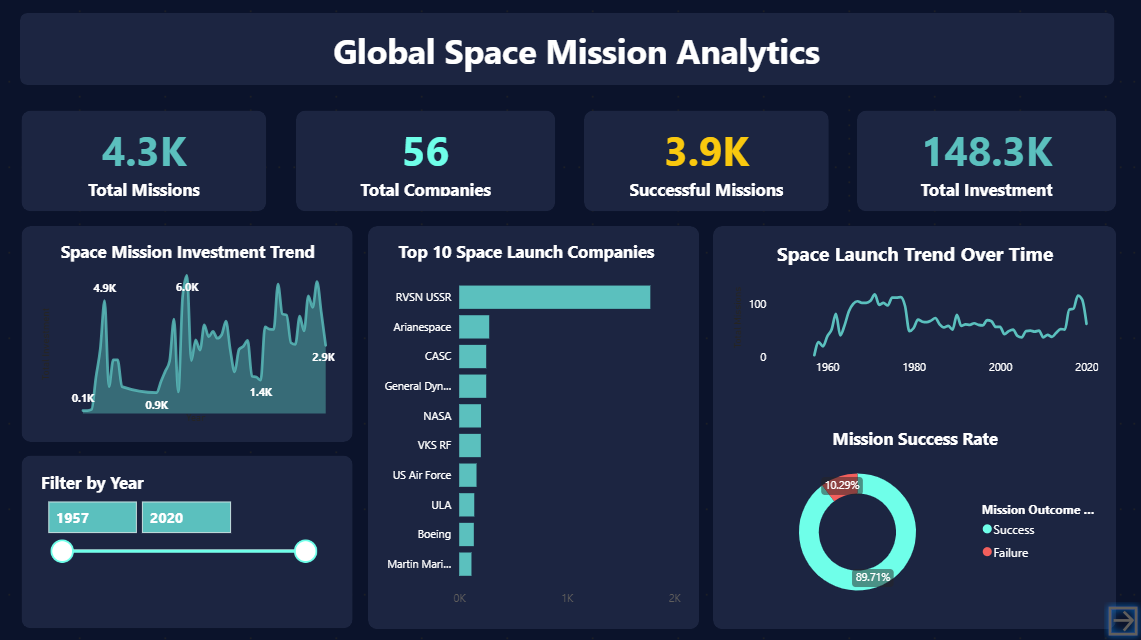

The page's visual inventory and layout, read from the dashboard file:
{"tool":"powerbi","page":{"name":"Executive Overview","canvas":[1280,720],"ordinal":0},"visuals":[{"type":"shape","box":[32,256,368,240],"z":0},{"type":"shape","box":[30,20,1216,80],"z":1000},{"type":"textbox","box":[48,32,1200,64],"z":2000},{"type":"shape","box":[336,128,288,112],"z":3000},{"type":"shape","box":[32,128,272,112],"z":4000},{"type":"shape","box":[656,128,272,112],"z":5000},{"type":"shape","box":[960,128,288,112],"z":6000},{"type":"shape","box":[416,256,368,448],"z":7000},{"type":"shape","box":[800,256,448,448],"z":8000},{"type":"cardVisual","fields":{"Data":["Space_Corrected.Total Missions"]},"box":[32,128,272,112],"z":9000},{"type":"cardVisual","fields":{"Data":["Space_Corrected.Total Companies"]},"box":[336,128,288,112],"z":10000},{"type":"cardVisual","fields":{"Data":["Space_Corrected.Successful Missions"]},"box":[656,128,272,112],"z":11000},{"type":"cardVisual","fields":{"Data":["Space_Corrected.Total Investment ($M)"]},"box":[960,128,288,112],"z":12000},{"type":"lineChart","title":"Space Launch Trend Over Time","fields":{"Category":["Space_Corrected.Year"],"Y":["Space_Corrected.Total Missions"]},"box":[816,272,416,160],"z":13000},{"type":"donutChart","title":"Mission Success Rate","fields":{"Category":["Space_Corrected.Mission Outcome Group"],"Y":["Space_Corrected.Total Missions"]},"box":[816,480,416,208],"z":14000},{"type":"clusteredBarChart","title":"Top 10 Space Launch Companies","fields":{"Category":["Space_Corrected.Company Name"],"Y":["Space_Corrected.Total Missions"]},"box":[416,272,352,416],"z":15000},{"type":"areaChart","title":"Space Mission Investment Trend","fields":{"Category":["Space_Corrected.Year"],"Y":["Space_Corrected.Total Investment ($M)"]},"box":[48,272,336,208],"z":16000},{"type":"shape","box":[32,512,368,192],"z":17000},{"type":"slicer","title":"Filter by Year","fields":{"Values":["Space_Corrected.Year"]},"box":[48,528,320,144],"z":18000},{"type":"actionButton","box":[1232,672,48,48],"z":19000}]}

Visuals, with their boxes in screenshot pixels (x1, y1, x2, y2), scaled from the page's 1280x720 canvas onto the 1141x640 screenshot:
shape: l=29, t=228, r=357, b=441
shape: l=27, t=18, r=1111, b=89
textbox: l=43, t=28, r=1112, b=85
shape: l=300, t=114, r=556, b=213
shape: l=29, t=114, r=271, b=213
shape: l=585, t=114, r=827, b=213
shape: l=856, t=114, r=1112, b=213
shape: l=371, t=228, r=699, b=626
shape: l=713, t=228, r=1112, b=626
cardVisual - Space_Corrected.Total Missions: l=29, t=114, r=271, b=213
cardVisual - Space_Corrected.Total Companies: l=300, t=114, r=556, b=213
cardVisual - Space_Corrected.Successful Missions: l=585, t=114, r=827, b=213
cardVisual - Space_Corrected.Total Investment ($M): l=856, t=114, r=1112, b=213
"Space Launch Trend Over Time" lineChart: l=727, t=242, r=1098, b=384
"Mission Success Rate" donutChart: l=727, t=427, r=1098, b=612
"Top 10 Space Launch Companies" clusteredBarChart: l=371, t=242, r=685, b=612
"Space Mission Investment Trend" areaChart: l=43, t=242, r=342, b=427
shape: l=29, t=455, r=357, b=626
"Filter by Year" slicer: l=43, t=469, r=328, b=597
actionButton: l=1098, t=597, r=1140, b=639
